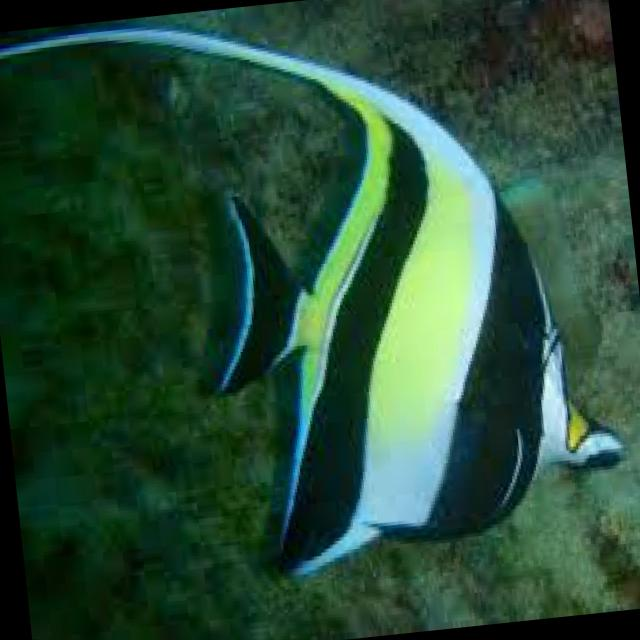MorishIdol: (0, 0, 638, 609)
